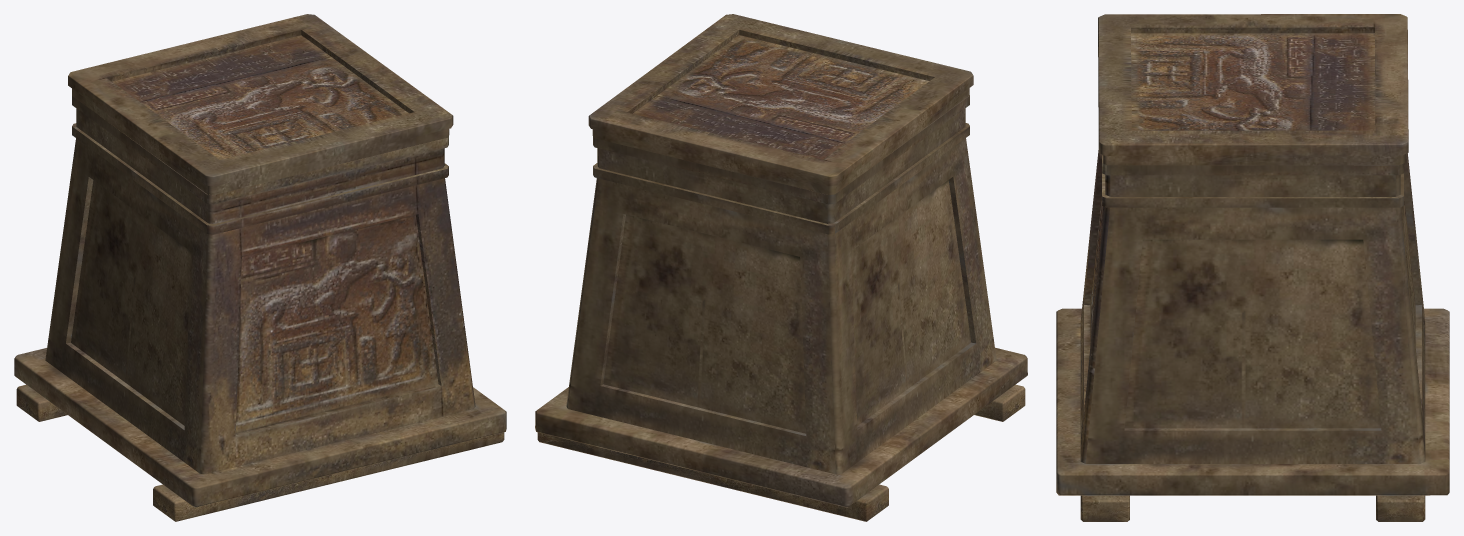
Rendered from EgyptianStyleTreasureChest.fbx.
3 views of the same model, side by side, from view 1: azimuth 30°, elevation 25°; view 2: azimuth 150°, elevation 25°; view 3: azimuth 270°, elevation 25° (orthographic). The views are drawn at different scales.
Visible parts, largest first — view 1: Container, lid, foot_front, foot_back; view 2: Container, lid, foot_back, foot_front; view 3: Container, lid, foot_front, foot_back.
Part boxes in pixels (<box>): Container: <box>14,96,506,507</box>; lid: <box>68,14,453,195</box>; foot_front: <box>153,432,504,521</box>; foot_back: <box>16,384,67,421</box>; Container: <box>535,95,1027,507</box>; lid: <box>588,14,973,194</box>; foot_back: <box>537,432,888,521</box>; foot_front: <box>974,384,1025,421</box>; Container: <box>1056,150,1449,495</box>; lid: <box>1098,14,1408,165</box>; foot_front: <box>1080,495,1129,521</box>; foot_back: <box>1376,495,1425,521</box>.
Bounding box in the file's own units: 84 × 80 × 80.01.
1 material, 1 textured.
